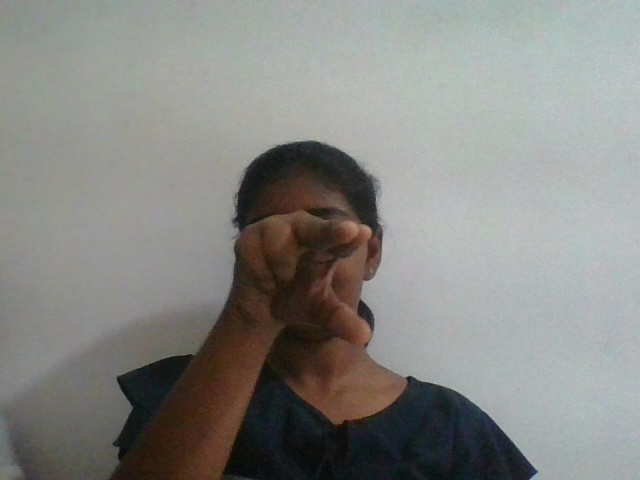No: (205, 211, 384, 359)
